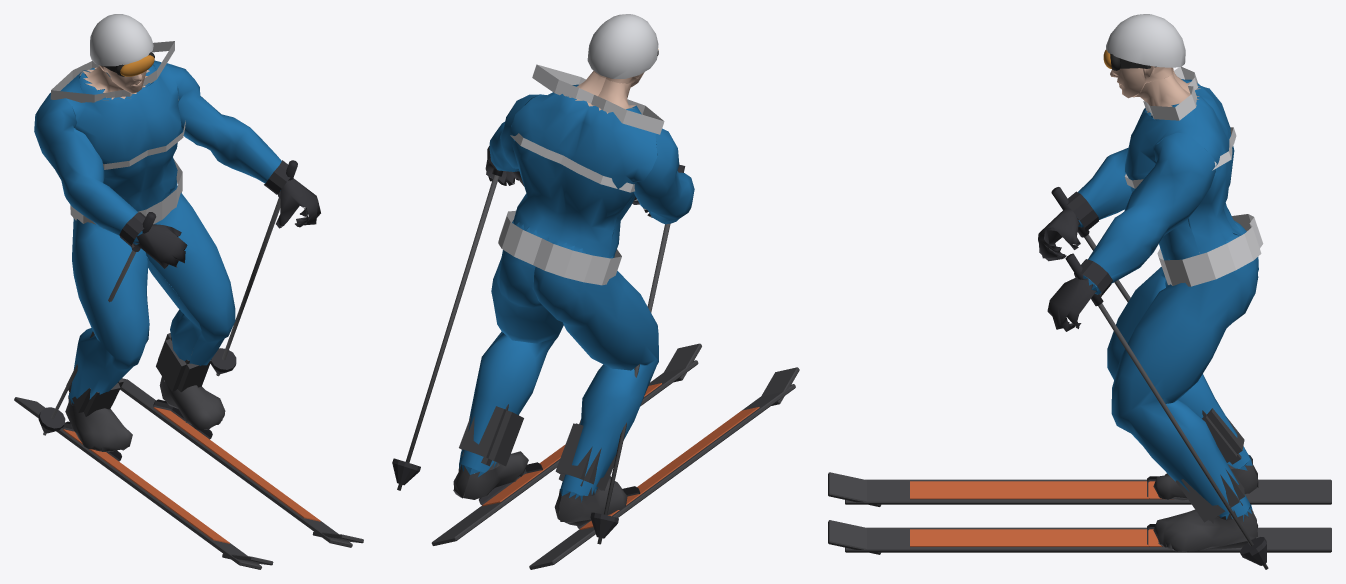
File: skier-lean-right.glb
The picture shows the model from 3 angles, left to right: view 1: azimuth 30°, elevation 25°; view 2: azimuth 150°, elevation 25°; view 3: azimuth 270°, elevation 25°; orthographic projection. The views are drawn at different scales.
Visible parts, largest first — view 1: skier-lean-right; view 2: skier-lean-right; view 3: skier-lean-right.
Boxes of the visible parts, x1,y1,x2,y2 form: skier-lean-right: (14, 14, 363, 569); skier-lean-right: (392, 14, 799, 569); skier-lean-right: (828, 14, 1331, 569).
Bounding box in the file's own units: 0.867 × 1.65 × 1.54.
